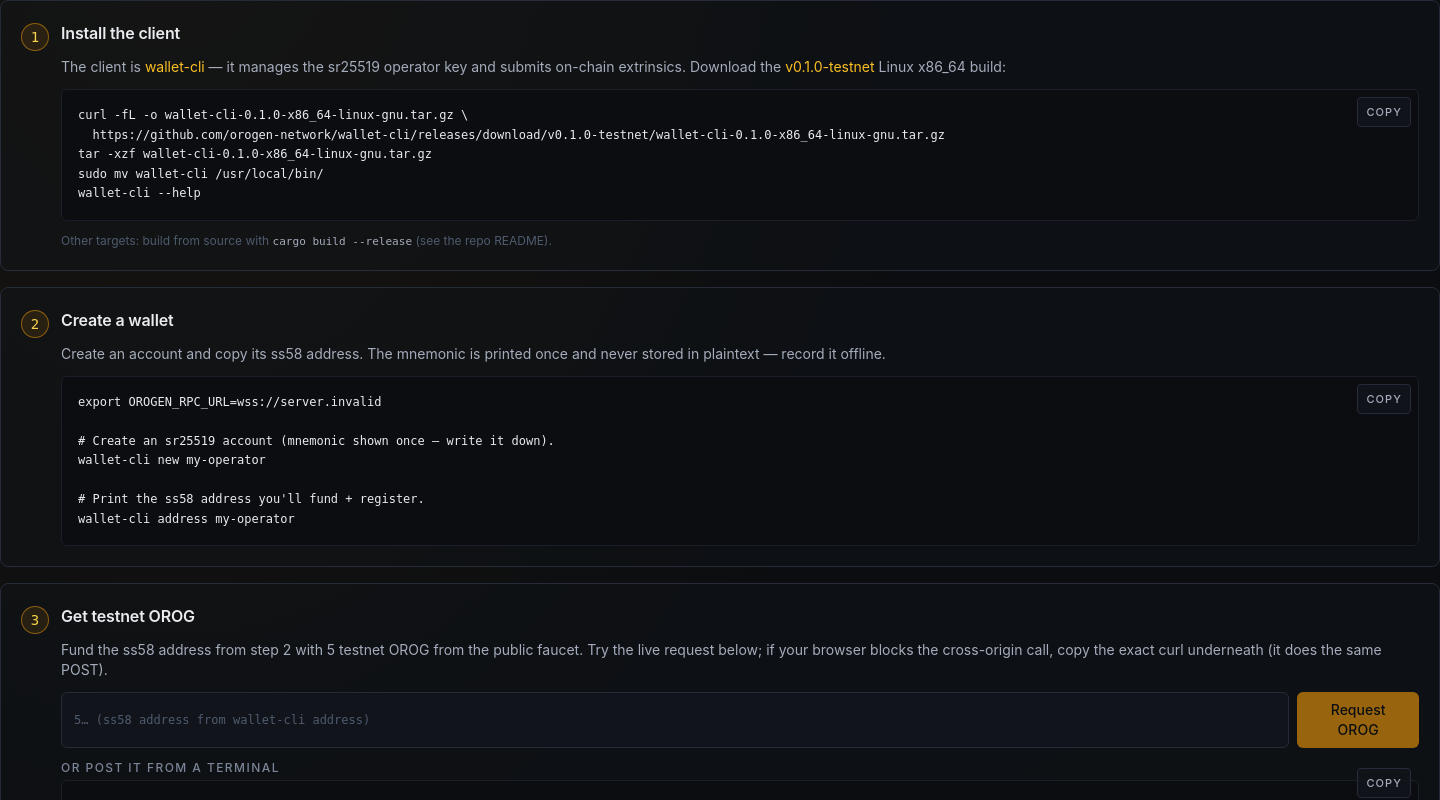
Quickstart › disables the faucet button until a valid ss58 is entered
Expected: the button "Request OROG" is disabled, left=1297, top=692, right=1419, bottom=748
Type "5GrwvaEF5zXb26Fz9rcQpDWS57CtERHpNehXCPcNoHGKutQY" into the field labelled "5… (ss58 address from wallet-cli address)".
click(675, 720); type("5GrwvaEF5zXb26Fz9rcQpDWS57CtERHpNehXCPcNoHGKutQY")  # box left=61, top=692, right=1289, bottom=748
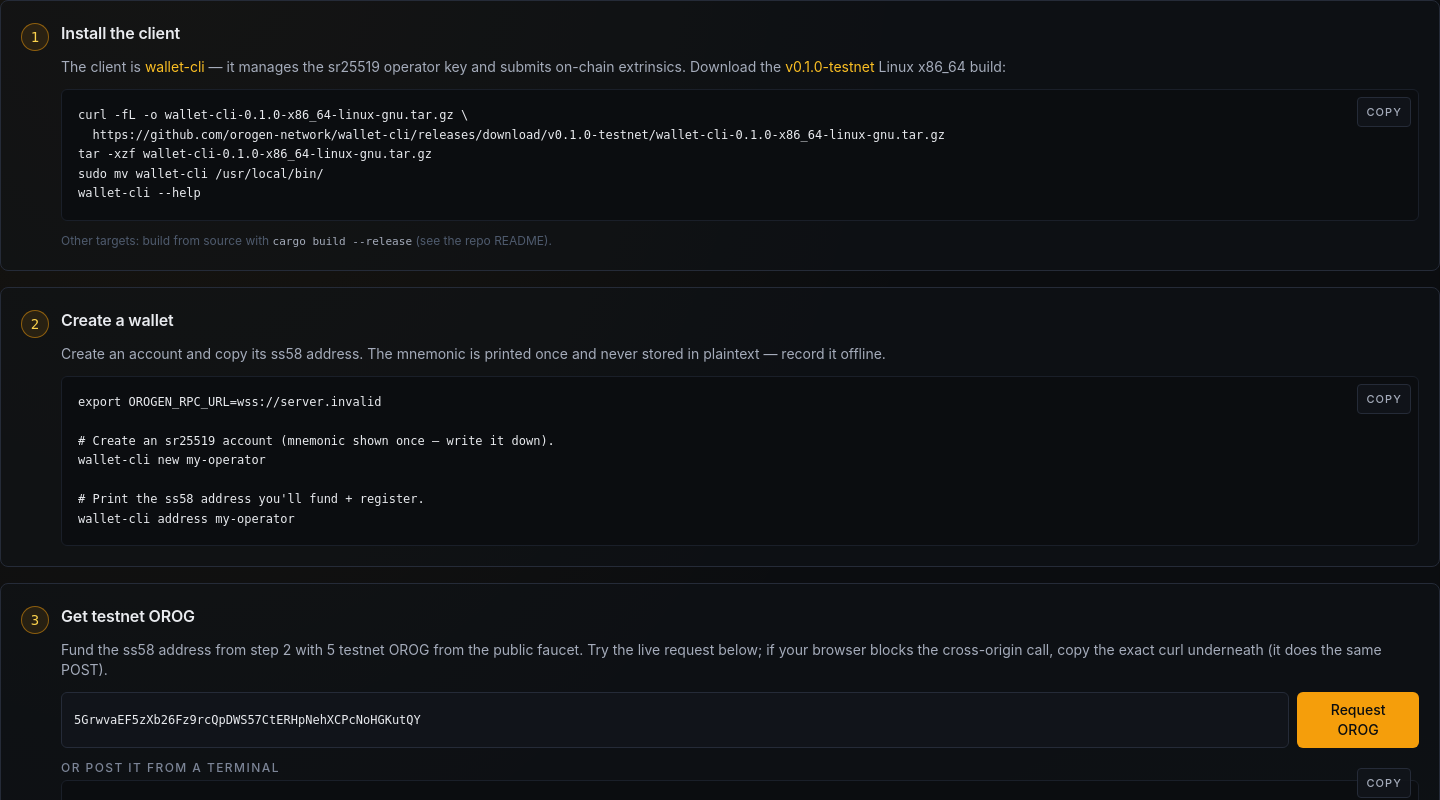
Expected: the button "Request OROG" is enabled, left=1297, top=692, right=1419, bottom=748
